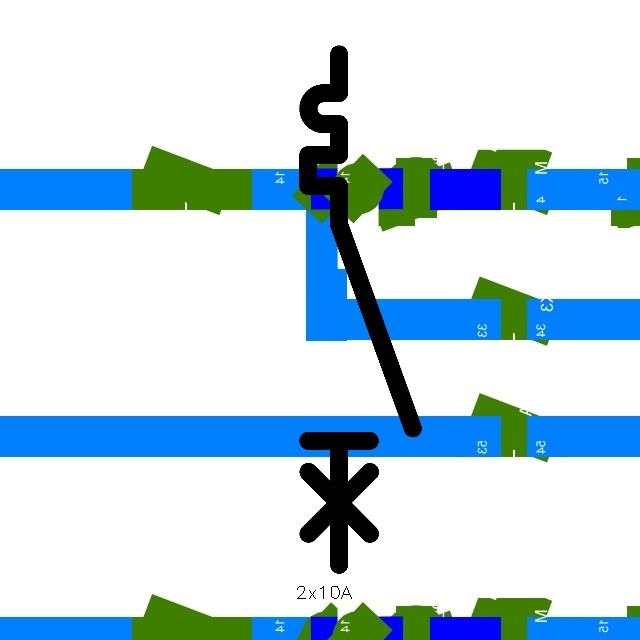interruptor_termomagnetico: (295, 41, 426, 577)
